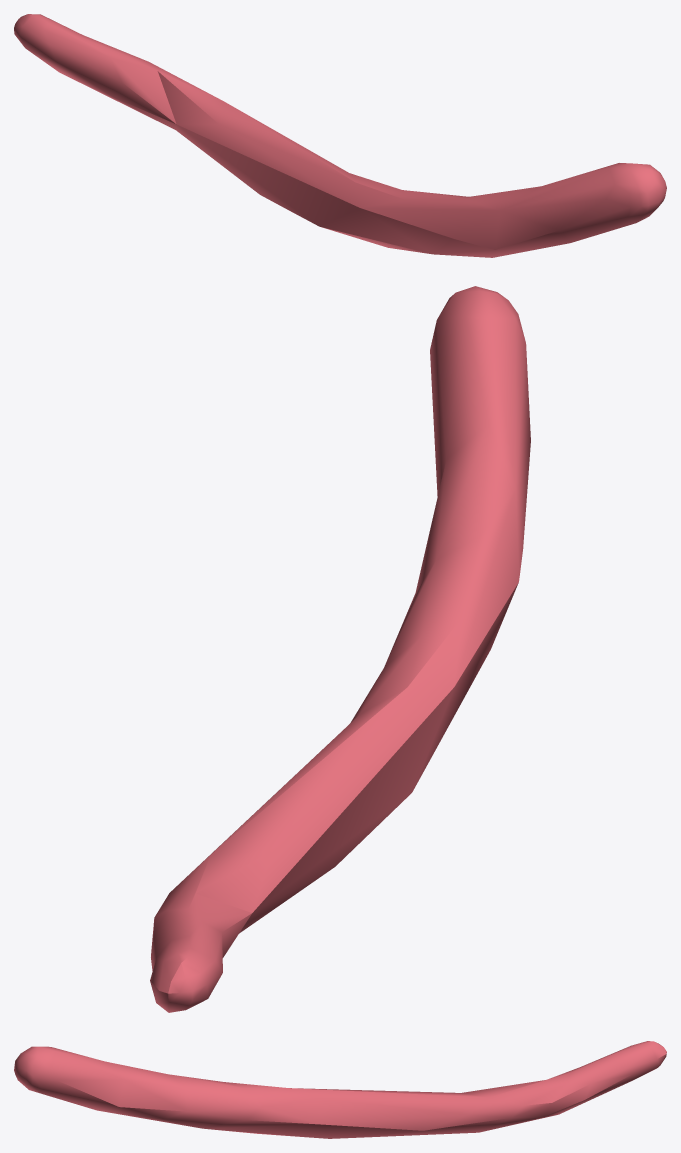
Rendered from fma8663_fj3022.glb.
The picture shows the model from 3 angles, top to bottom: view 1: azimuth 30°, elevation 25°; view 2: azimuth 150°, elevation 25°; view 3: azimuth 270°, elevation 25°; orthographic projection. The views are drawn at different scales.
Visible parts, largest first — view 1: FMA8663_FJ3022; view 2: FMA8663_FJ3022; view 3: FMA8663_FJ3022.
Boxes of the visible parts, left/top/right/bottom form: FMA8663_FJ3022: left=14, top=14, right=666, bottom=257; FMA8663_FJ3022: left=150, top=286, right=530, bottom=1012; FMA8663_FJ3022: left=14, top=1041, right=666, bottom=1138.
Bounding box in the file's own units: 0.0163 × 0.0111 × 0.0487.
